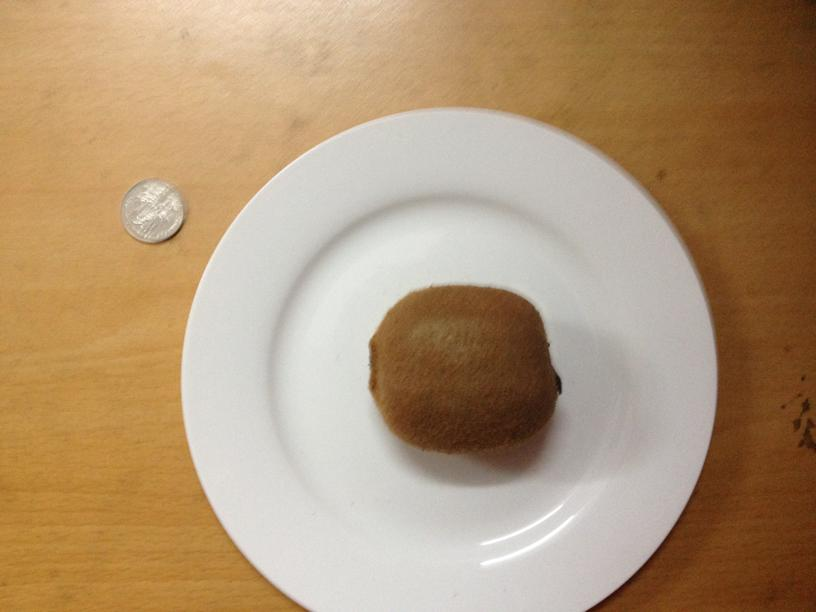coin: (122, 180, 185, 244)
qiwi: (366, 286, 558, 455)
